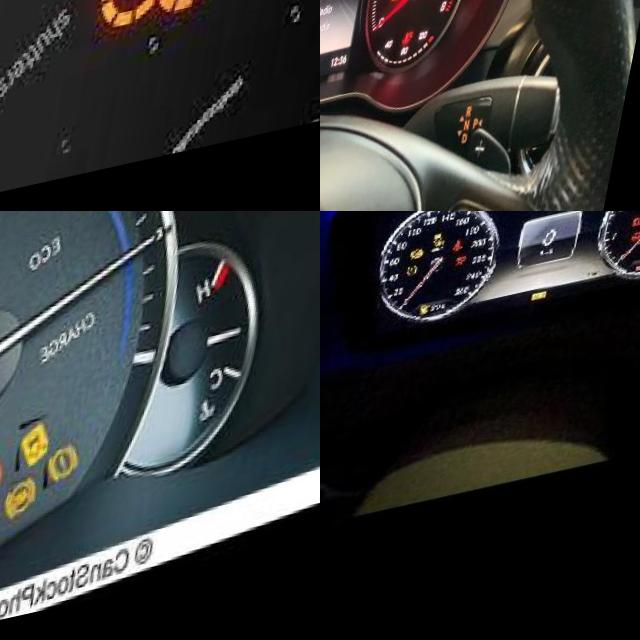Low fuel level: (431, 313, 441, 324)
Washer Fluid: (42, 0, 320, 57)
